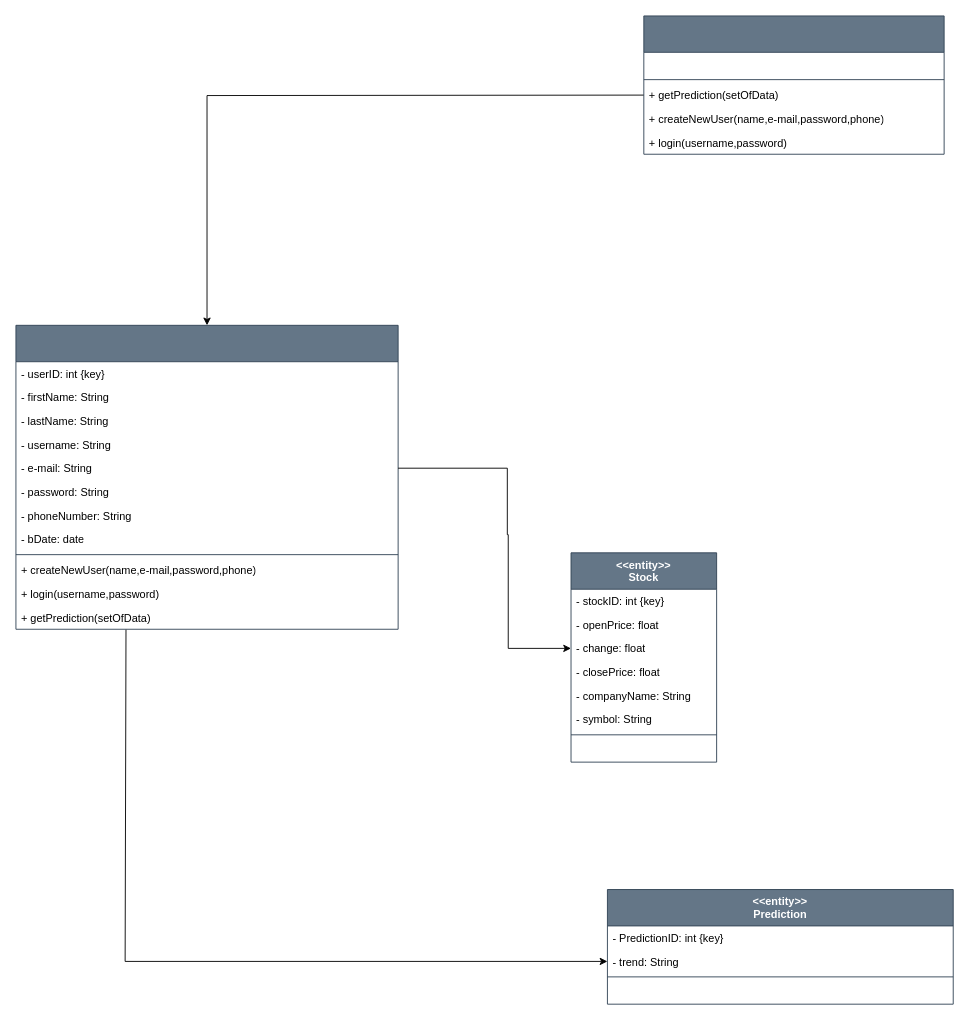
Some shapes in this 969 by 1023 pixel diagram are drawn without their labels. The shapes that lost their labels are listed below. From the top down, each one's box as (x1, y1, x2, y2) in pixels, then its label:
(643, 15, 944, 154): <<controller>> TradingHandler
(15, 324, 398, 629): <<entity>> User
